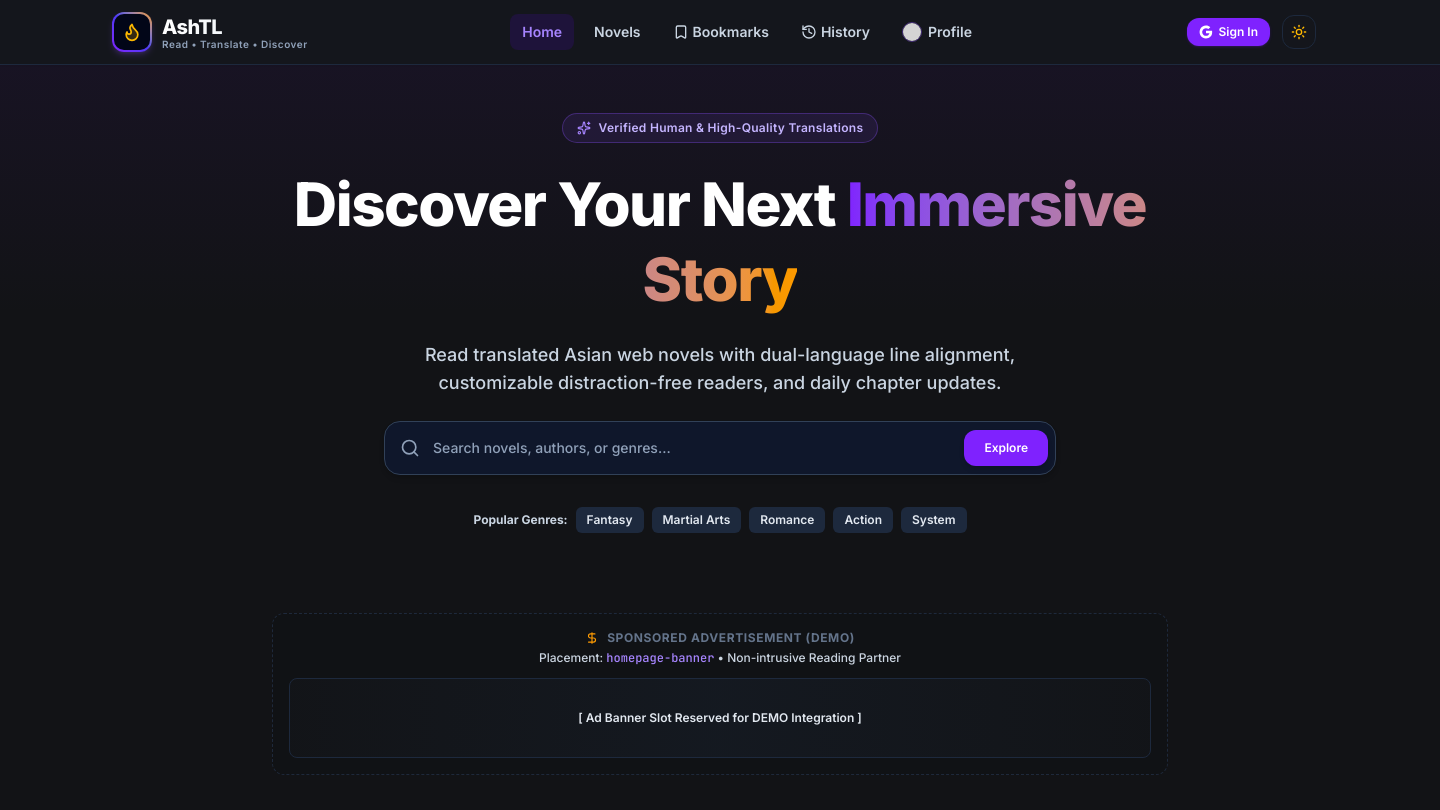
it: AshTL Application Core Workflows & Admin Security › renders catalog with novels and filters them by genre
This screenshot has width=1440, height=810.
Click the button "Novels" at (617, 32), box [582,14,652,50]
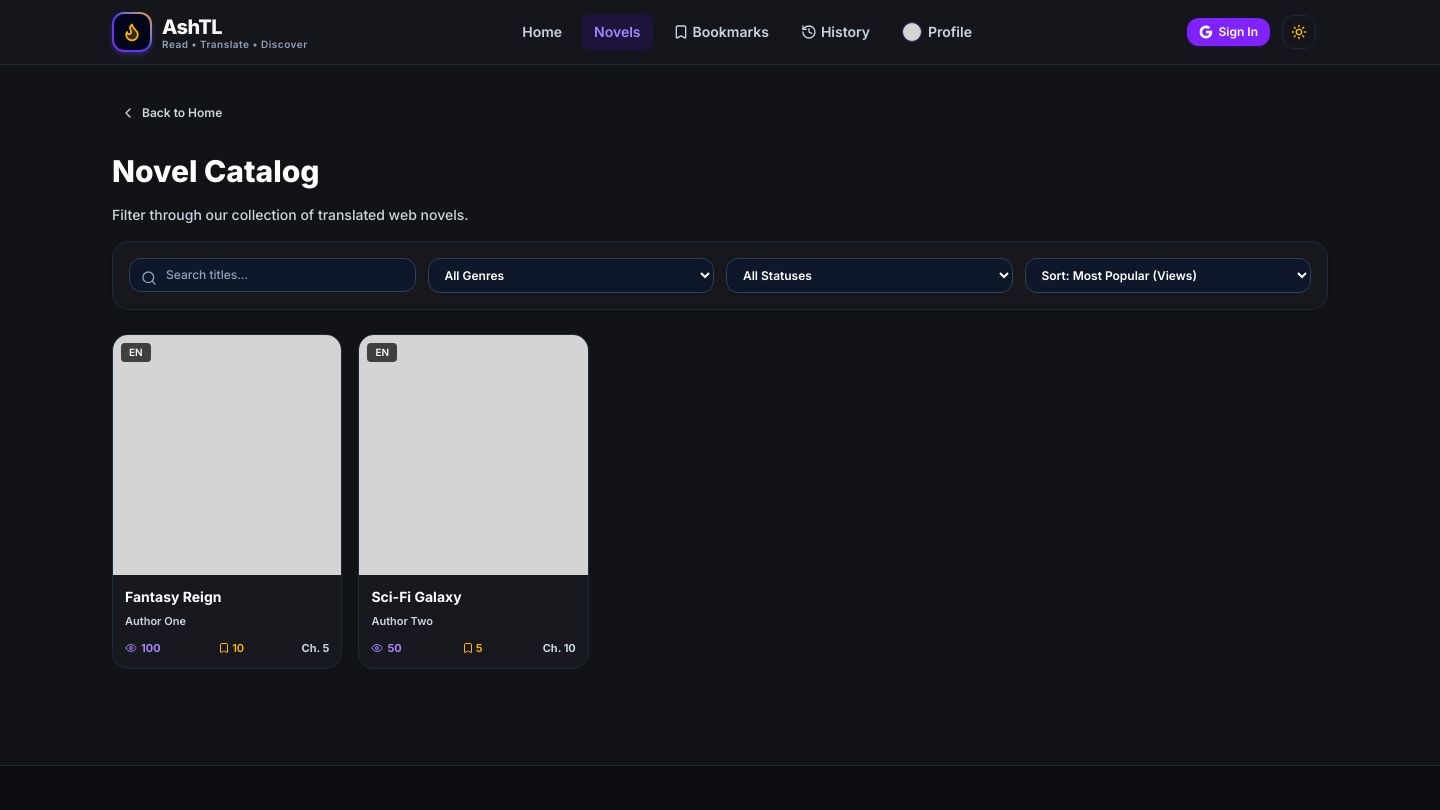
Expected: the heading "Fantasy Reign" is shown, [125,588,222,605]
Expected: the heading "Sci-Fi Galaxy" is shown, [371,588,462,605]
// Filter by Genre
Select "Fantasy" in the dropdown named "Filter by genre" at (571, 276), box [428,258,714,293]
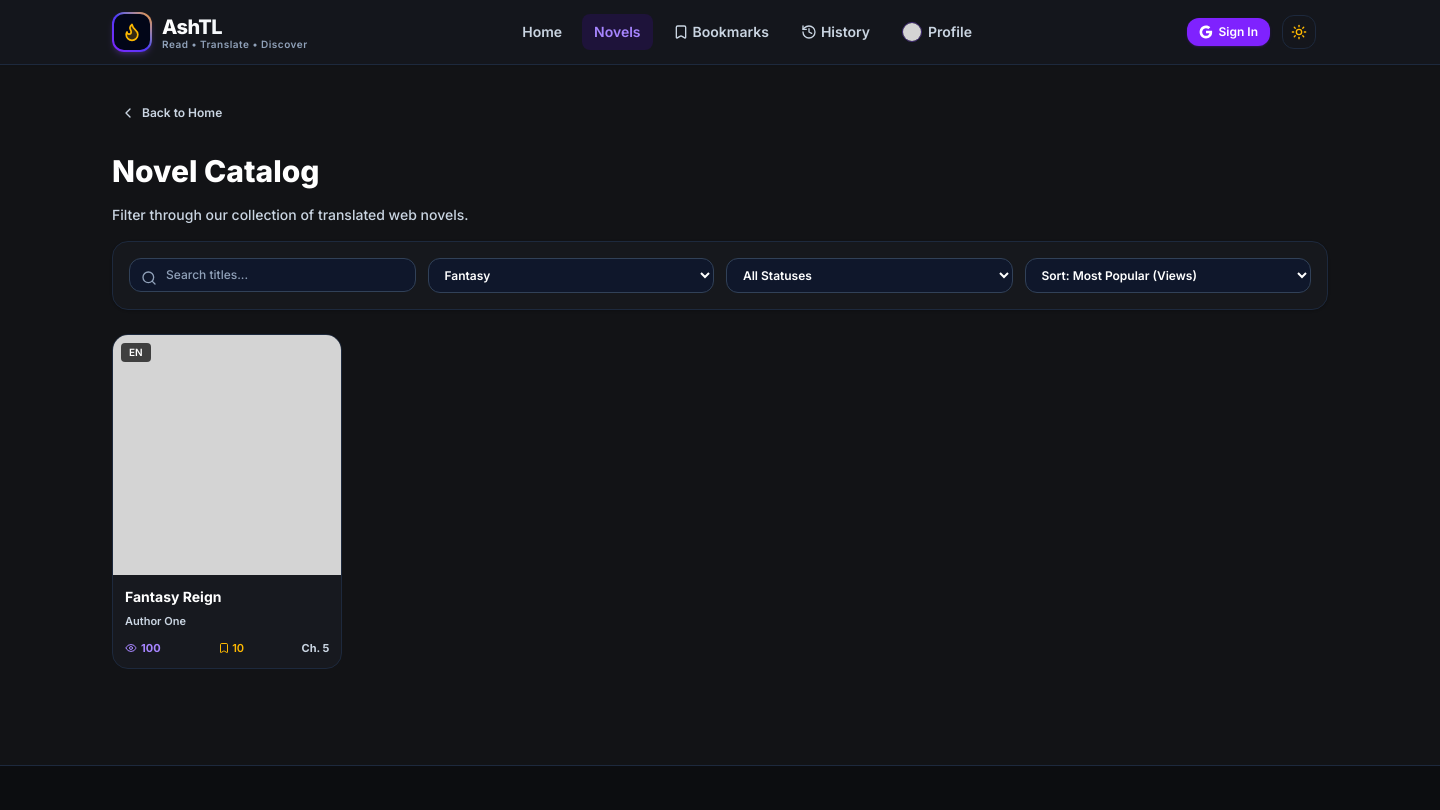
Expected: the heading "Fantasy Reign" is shown, [125,588,222,605]
Expected: the heading "Sci-Fi Galaxy" is gone
